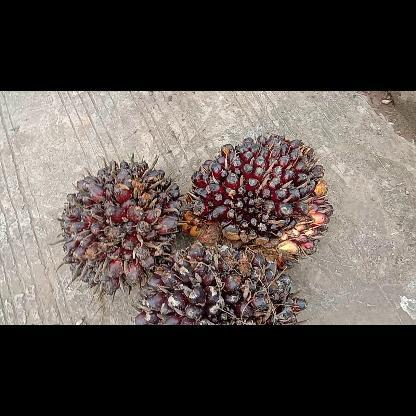TBS mentah: (183, 132, 334, 272), (57, 156, 183, 298), (131, 238, 311, 324)
